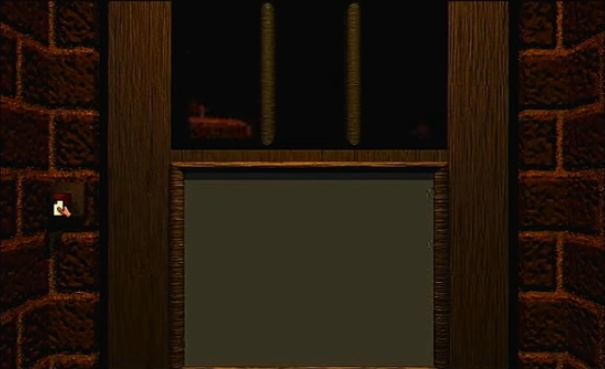Keep: (52, 198, 74, 219)
